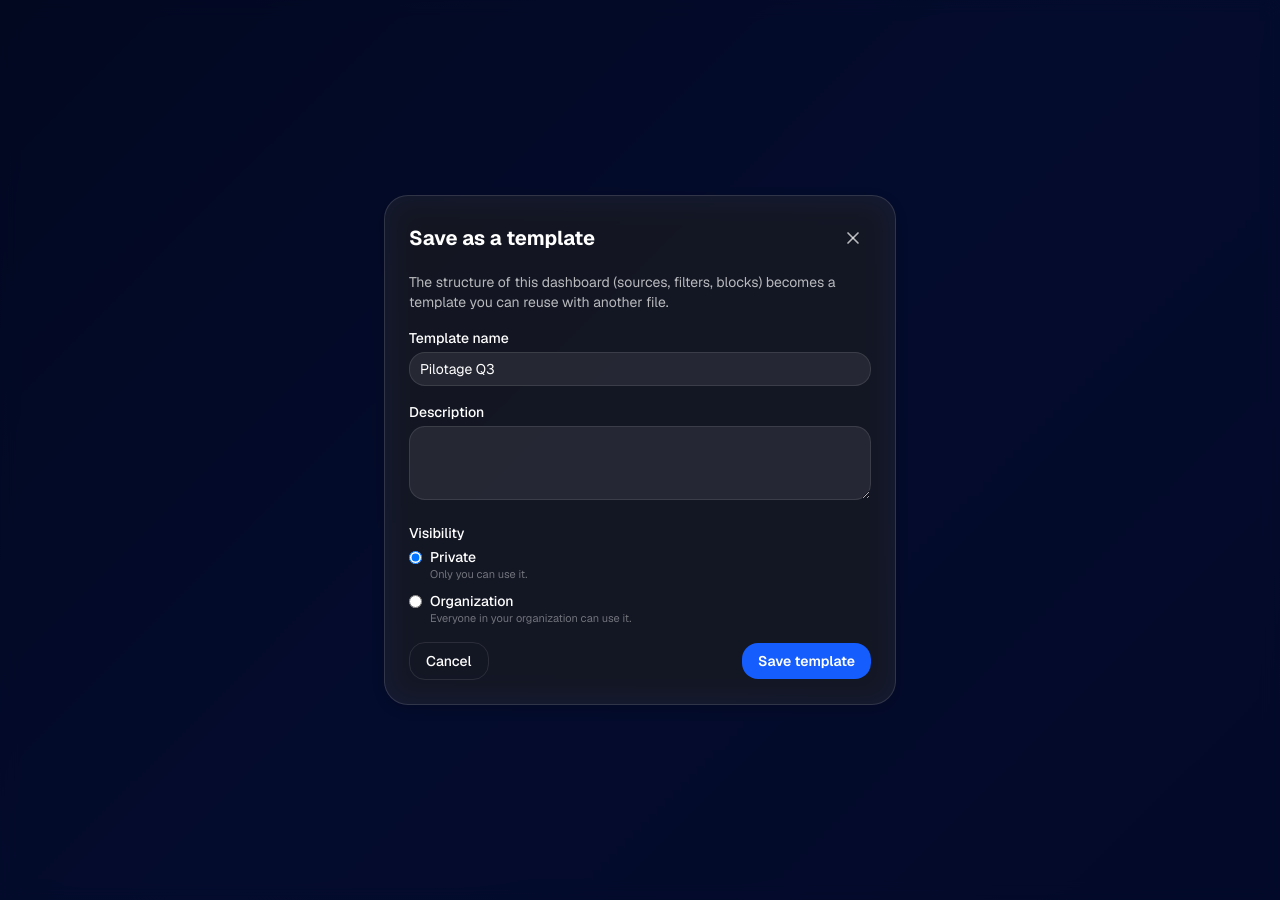
SaveAsTemplateModal › lists 422 errors
Click the button "Save template".
click(806, 661)  # box 742,643 -> 871,679
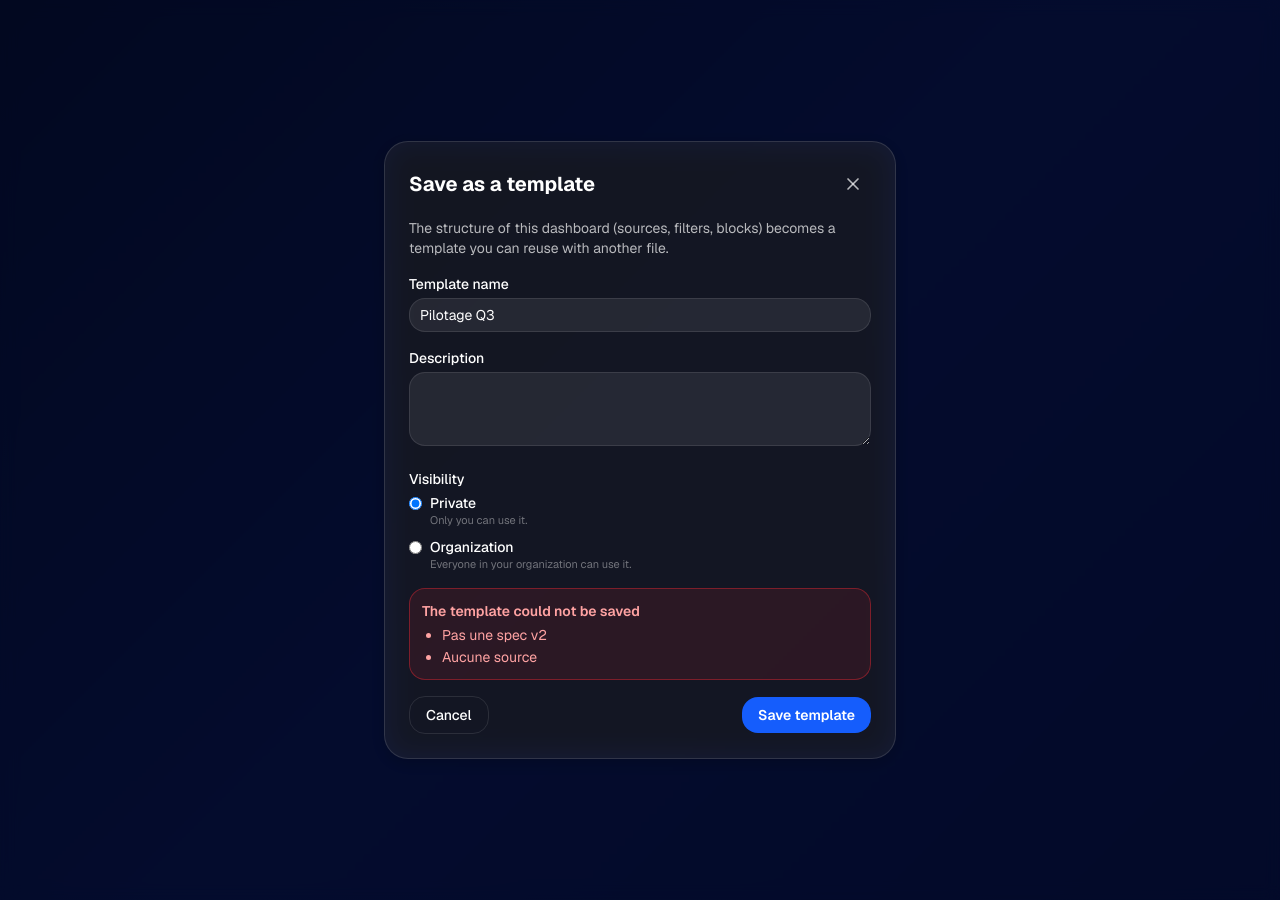
expect the message shows "Pas une spec v2": met, box 442,626 -> 547,644
expect the message shows "Aucune source": met, box 442,648 -> 537,666
